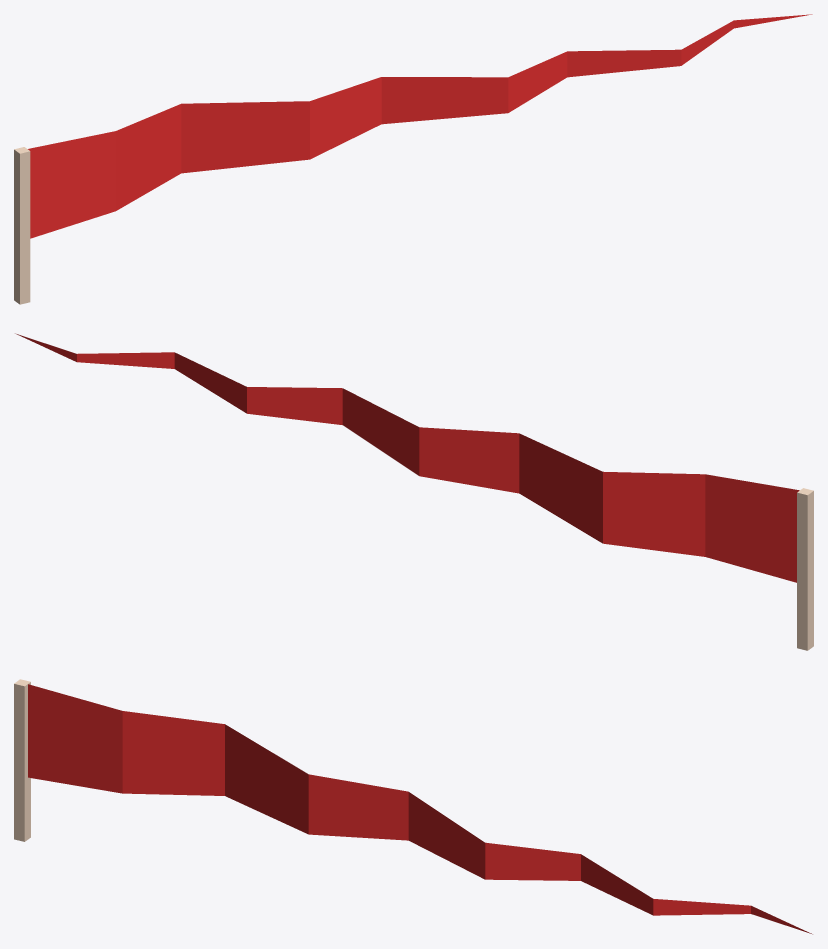
The model's file is Abstract_Castle_Flag_02.fbx.
3 renders of one model, top to bottom at view 1: azimuth 30°, elevation 25°; view 2: azimuth 150°, elevation 25°; view 3: azimuth 330°, elevation 25°, orthographic. The views are drawn at different scales.
Parts seen in each view (by area): view 1: Model; view 2: Model; view 3: Model.
Boxes of the visible parts, <box> form: Model: <box>14,14,812,304</box>; Model: <box>15,333,813,650</box>; Model: <box>14,679,812,934</box>.
Size of the model in its own units: 2907 by 534 by 271.
